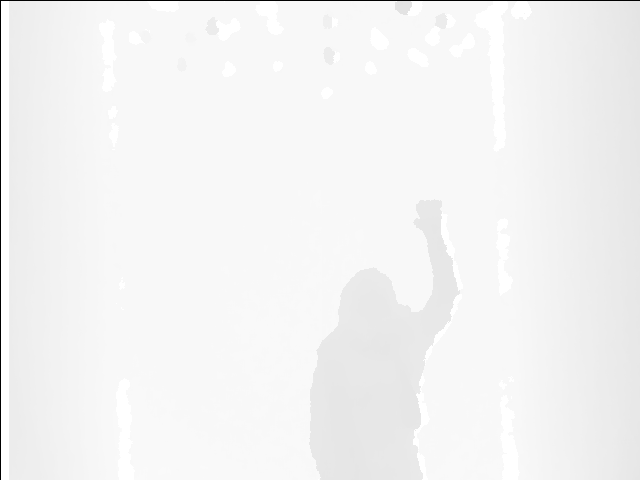hand: (414, 199, 447, 240)
